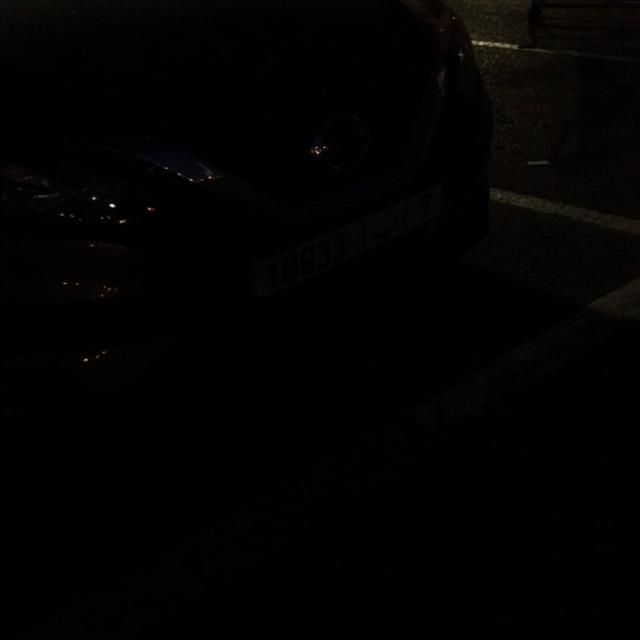License-Plate: (252, 187, 443, 301)
